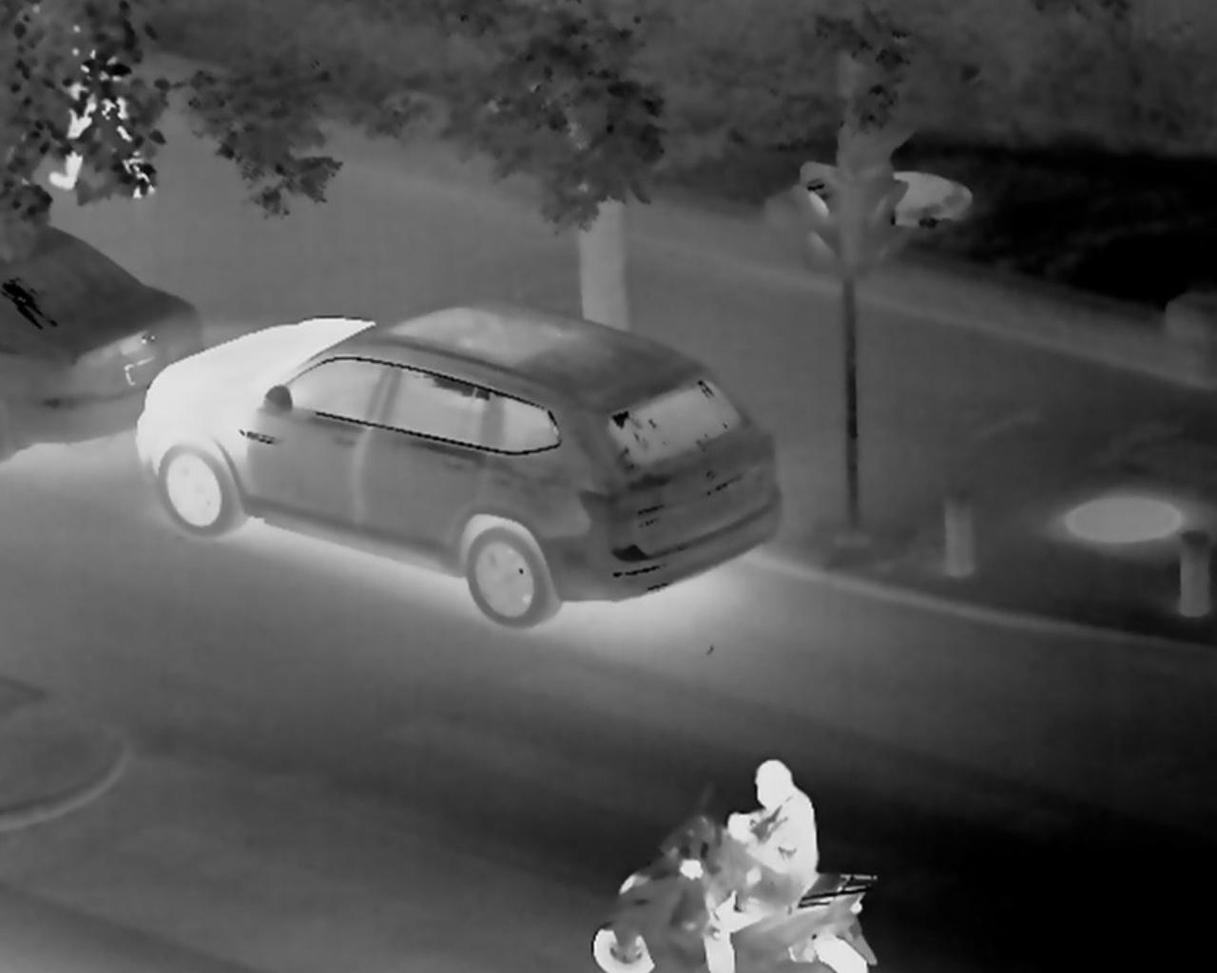person: (670, 734, 837, 973), (52, 20, 159, 207)
